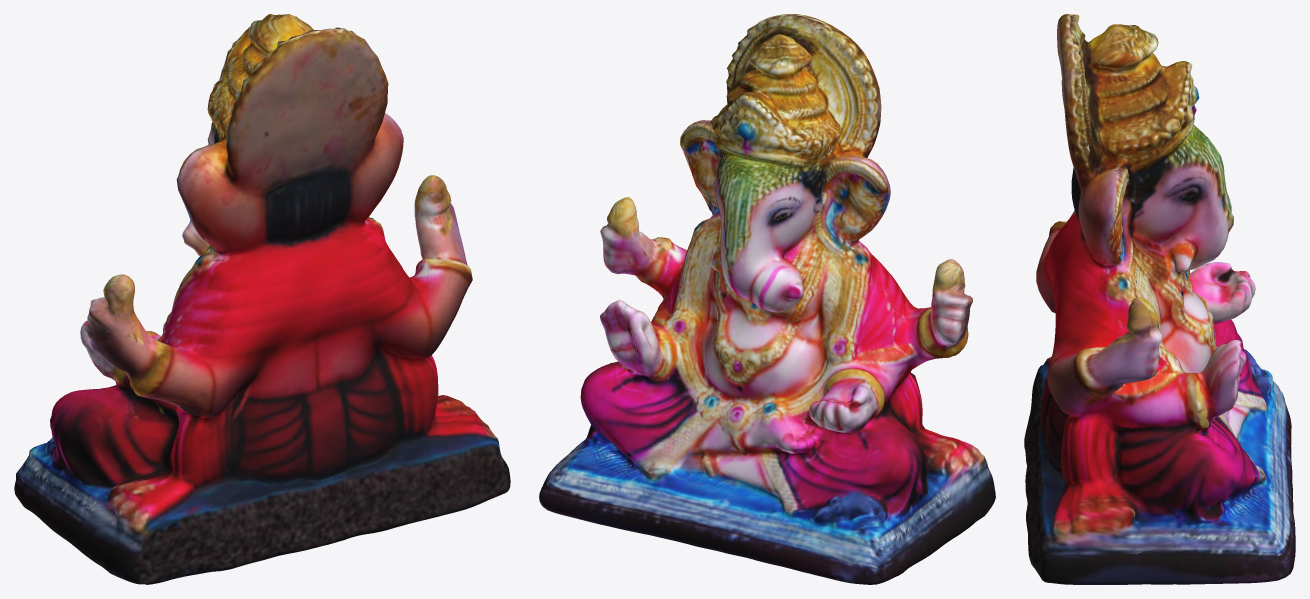
The model's file is Ganesh Color.fbx.
The picture shows the model from 3 angles, left to right: view 1: azimuth 30°, elevation 25°; view 2: azimuth 150°, elevation 25°; view 3: azimuth 270°, elevation 25°; orthographic projection. The views are drawn at different scales.
Visible parts, largest first — view 1: Ganesh_Color_End_LR; view 2: Ganesh_Color_End_LR; view 3: Ganesh_Color_End_LR.
Part boxes in pixels (x1,y1,x2,y2): Ganesh_Color_End_LR: (14,14,510,584); Ganesh_Color_End_LR: (539,14,995,584); Ganesh_Color_End_LR: (1024,14,1295,584).
Size of the model in its own units: 25.91 by 31.51 by 16.26.
1 material, 1 textured.
